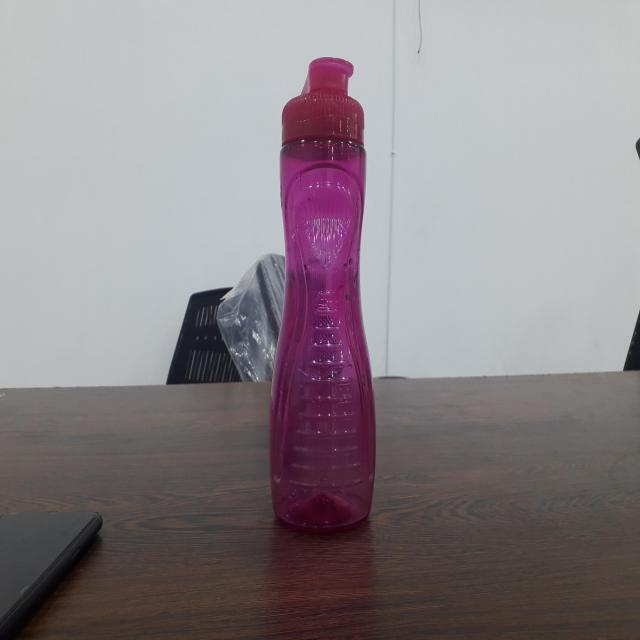gym bottle: (270, 55, 379, 532)
